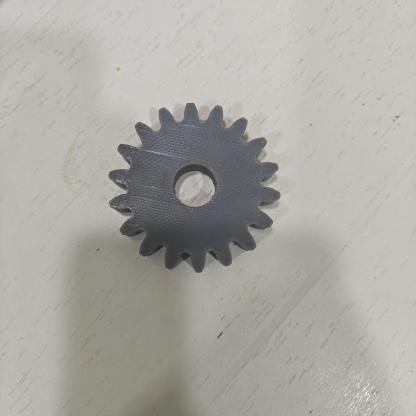gear: (109, 103, 280, 273)
